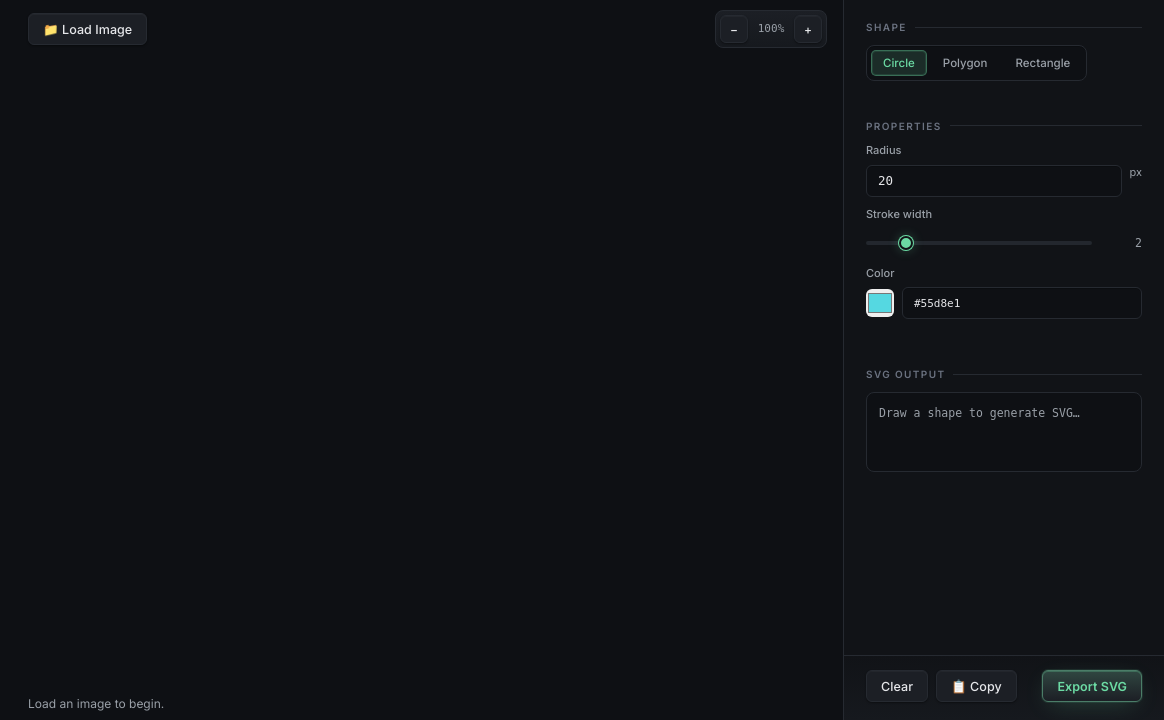
SvgGenerator › hides Radius field for Rectangle mode
Click the button "Rectangle": click(1043, 62) [1004,50,1082,76]
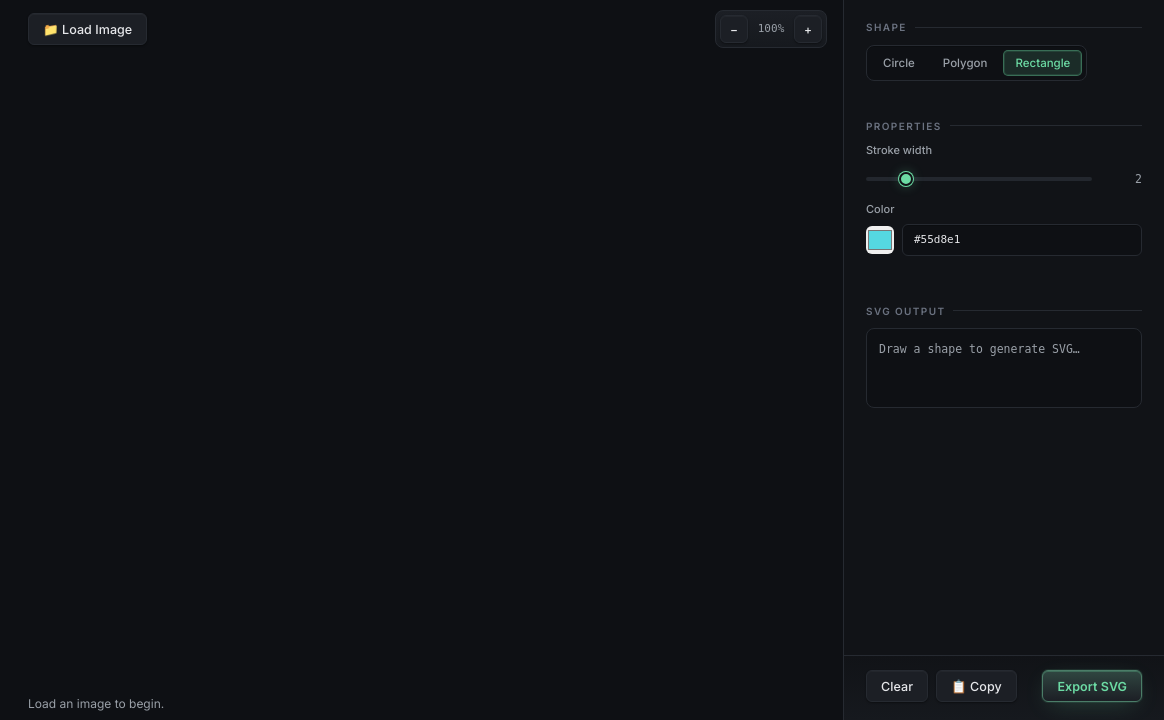
expect the text "Radius" is gone: met
